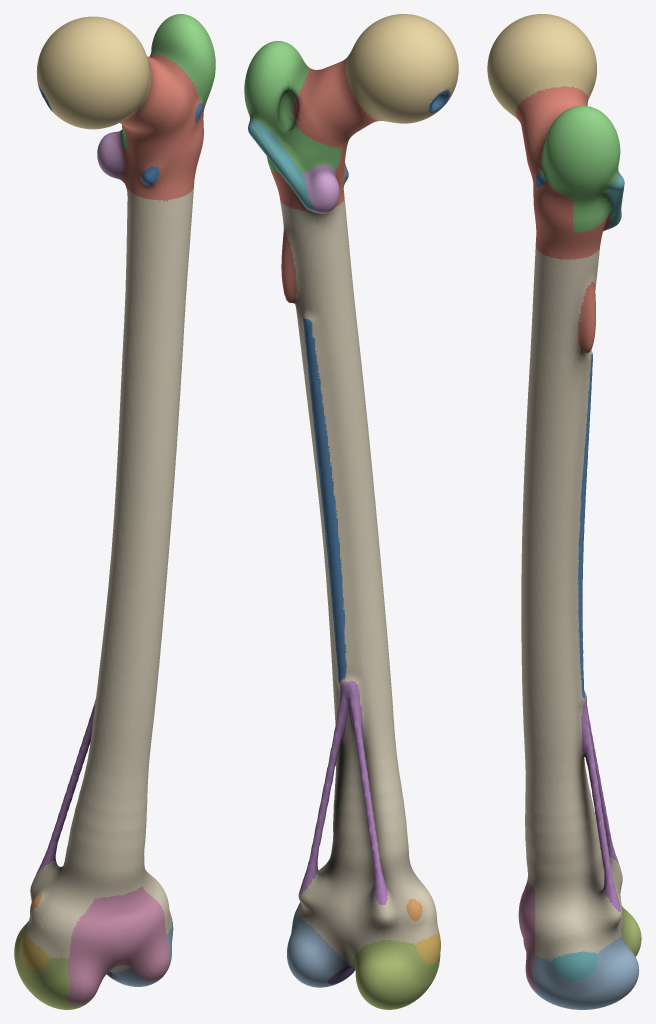
File: femur-anterior.glb
3 renders of one model, left to right at view 1: azimuth 30°, elevation 25°; view 2: azimuth 150°, elevation 25°; view 3: azimuth 270°, elevation 25°, orthographic. The views are drawn at different scales.
Parts seen in each view (by area): view 1: femur_L_shaft, femur_L_head, femur_L_neck, femur_L_patellar_surface, femur_L_greater_trochanter, femur_L_medial_condyle, femur_L_supracondylar_lines, femur_L_lesser_trochanter, femur_L_medial_epicondyle, femur_L_lateral_condyle; view 2: femur_L_shaft, femur_L_head, femur_L_greater_trochanter, femur_L_neck, femur_L_medial_condyle, femur_L_linea_aspera, femur_L_supracondylar_lines, femur_L_lateral_condyle, femur_L_intertrochanteric_crest, femur_L_lesser_trochanter, femur_L_gluteal_tuberosity, femur_L_medial_epicondyle; view 3: femur_L_shaft, femur_L_head, femur_L_greater_trochanter, femur_L_neck, femur_L_lateral_condyle, femur_L_supracondylar_lines, femur_L_linea_aspera, femur_L_patellar_surface, femur_L_lateral_epicondyle, femur_L_gluteal_tuberosity, femur_L_medial_condyle, femur_L_intertrochanteric_crest.
Part boxes in pixels (<box>): femur_L_shaft: <box>24,186,193,974</box>; femur_L_head: <box>36,16,151,129</box>; femur_L_neck: <box>119,54,204,201</box>; femur_L_patellar_surface: <box>67,886,169,1005</box>; femur_L_greater_trochanter: <box>120,14,215,148</box>; femur_L_medial_condyle: <box>14,921,105,1009</box>; femur_L_supracondylar_lines: <box>35,699,95,875</box>; femur_L_lesser_trochanter: <box>97,130,124,180</box>; femur_L_medial_epicondyle: <box>20,931,50,970</box>; femur_L_lateral_condyle: <box>111,927,172,986</box>; femur_L_shaft: <box>280,198,439,967</box>; femur_L_head: <box>345,14,458,123</box>; femur_L_greater_trochanter: <box>244,41,341,173</box>; femur_L_neck: <box>270,58,378,213</box>; femur_L_medial_condyle: <box>352,940,440,1009</box>; femur_L_linea_aspera: <box>303,318,347,682</box>; femur_L_supracondylar_lines: <box>300,680,388,904</box>; femur_L_lateral_condyle: <box>287,915,355,987</box>; femur_L_intertrochanteric_crest: <box>248,119,314,211</box>; femur_L_lesser_trochanter: <box>302,164,339,213</box>; femur_L_gluteal_tuberosity: <box>281,230,297,303</box>; femur_L_medial_epicondyle: <box>416,932,440,964</box>; femur_L_shaft: <box>521,247,623,961</box>; femur_L_head: <box>487,14,596,119</box>; femur_L_greater_trochanter: <box>541,105,620,232</box>; femur_L_neck: <box>515,86,611,259</box>; femur_L_lateral_condyle: <box>533,936,639,1009</box>; femur_L_supracondylar_lines: <box>581,694,620,911</box>; femur_L_linea_aspera: <box>577,353,592,698</box>; femur_L_patellar_surface: <box>518,880,535,991</box>; femur_L_lateral_epicondyle: <box>550,951,597,980</box>; femur_L_gluteal_tuberosity: <box>578,281,595,353</box>; femur_L_medial_condyle: <box>621,906,641,956</box>; femur_L_intertrochanteric_crest: <box>607,173,624,227</box>.
Bounding box in the file's own units: 0.0884 × 0.4507 × 0.0651.
